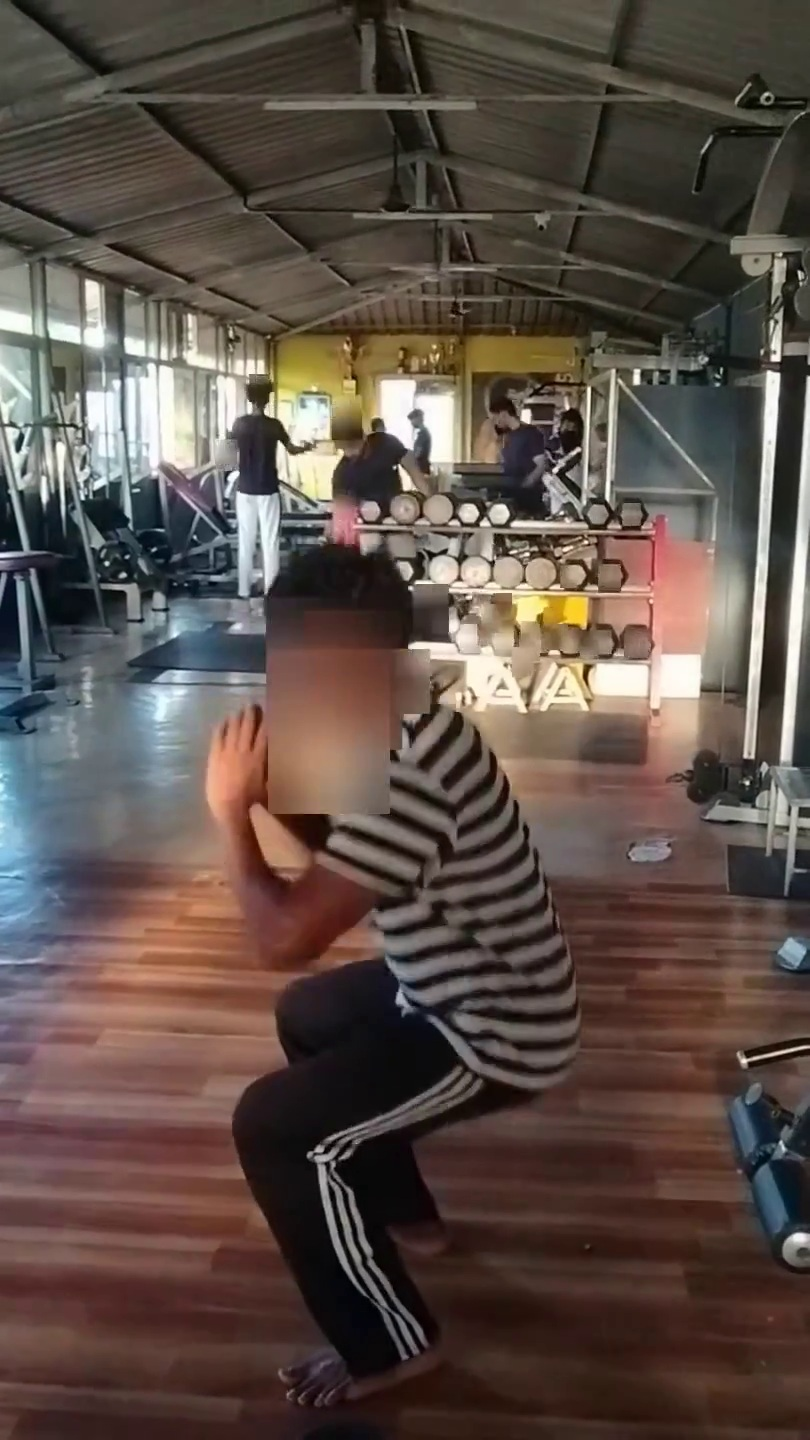squat_incorrect: (157, 543, 570, 1440)
